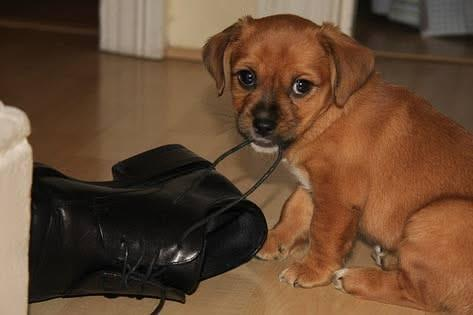puppy-dog: (197, 10, 473, 309)
